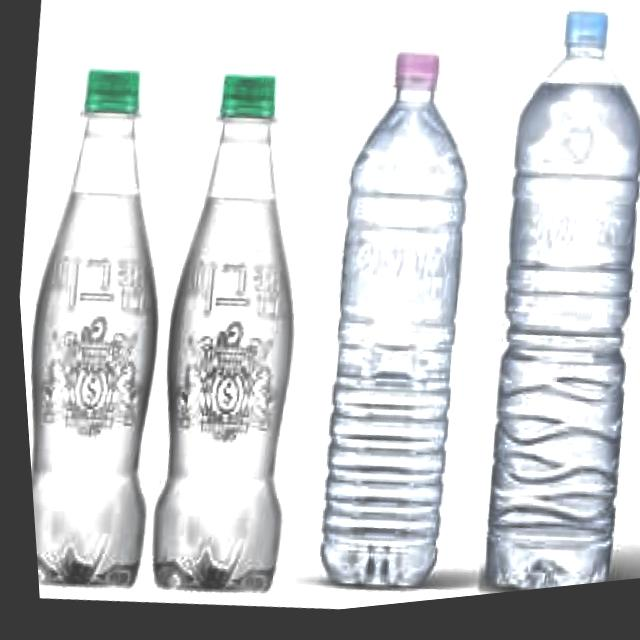Bottles: (275, 23, 517, 617), (113, 37, 356, 610), (422, 0, 640, 606), (2, 23, 212, 605)
